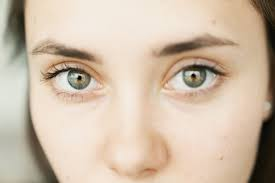pupil: (67, 70, 91, 90), (183, 69, 205, 87)
